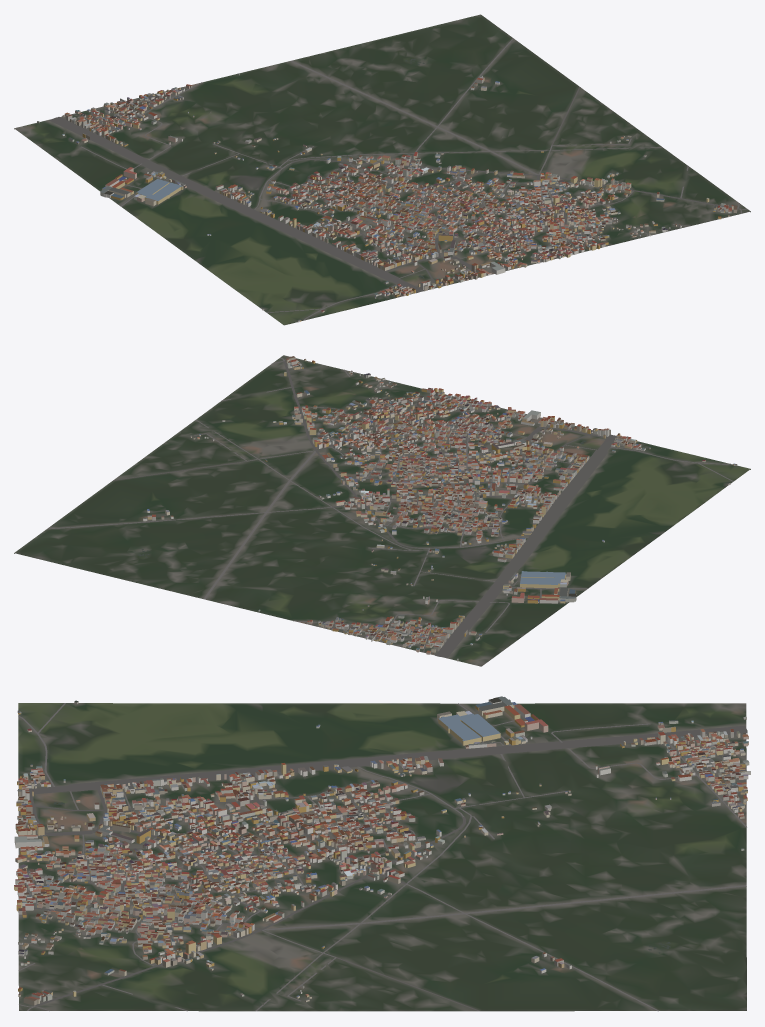
3 views of the same model, one above another, from view 1: azimuth 30°, elevation 25°; view 2: azimuth 150°, elevation 25°; view 3: azimuth 270°, elevation 25° (orthographic). The views are drawn at different scales.
Visible parts, largest first — view 1: ground, buildings, roads; view 2: ground, buildings, roads; view 3: ground, buildings, roads.
Boxes of the visible parts, <box> form: ground: <box>14,14,750,325</box>; buildings: <box>37,73,737,322</box>; roads: <box>49,38,747,320</box>; ground: <box>14,355,750,666</box>; buildings: <box>143,356,737,661</box>; roads: <box>47,357,733,657</box>; ground: <box>18,703,746,1011</box>; buildings: <box>14,696,750,1005</box>; roads: <box>17,703,747,1011</box>.
Bounding box in the file's own units: 1415 × 29.37 × 1419.
